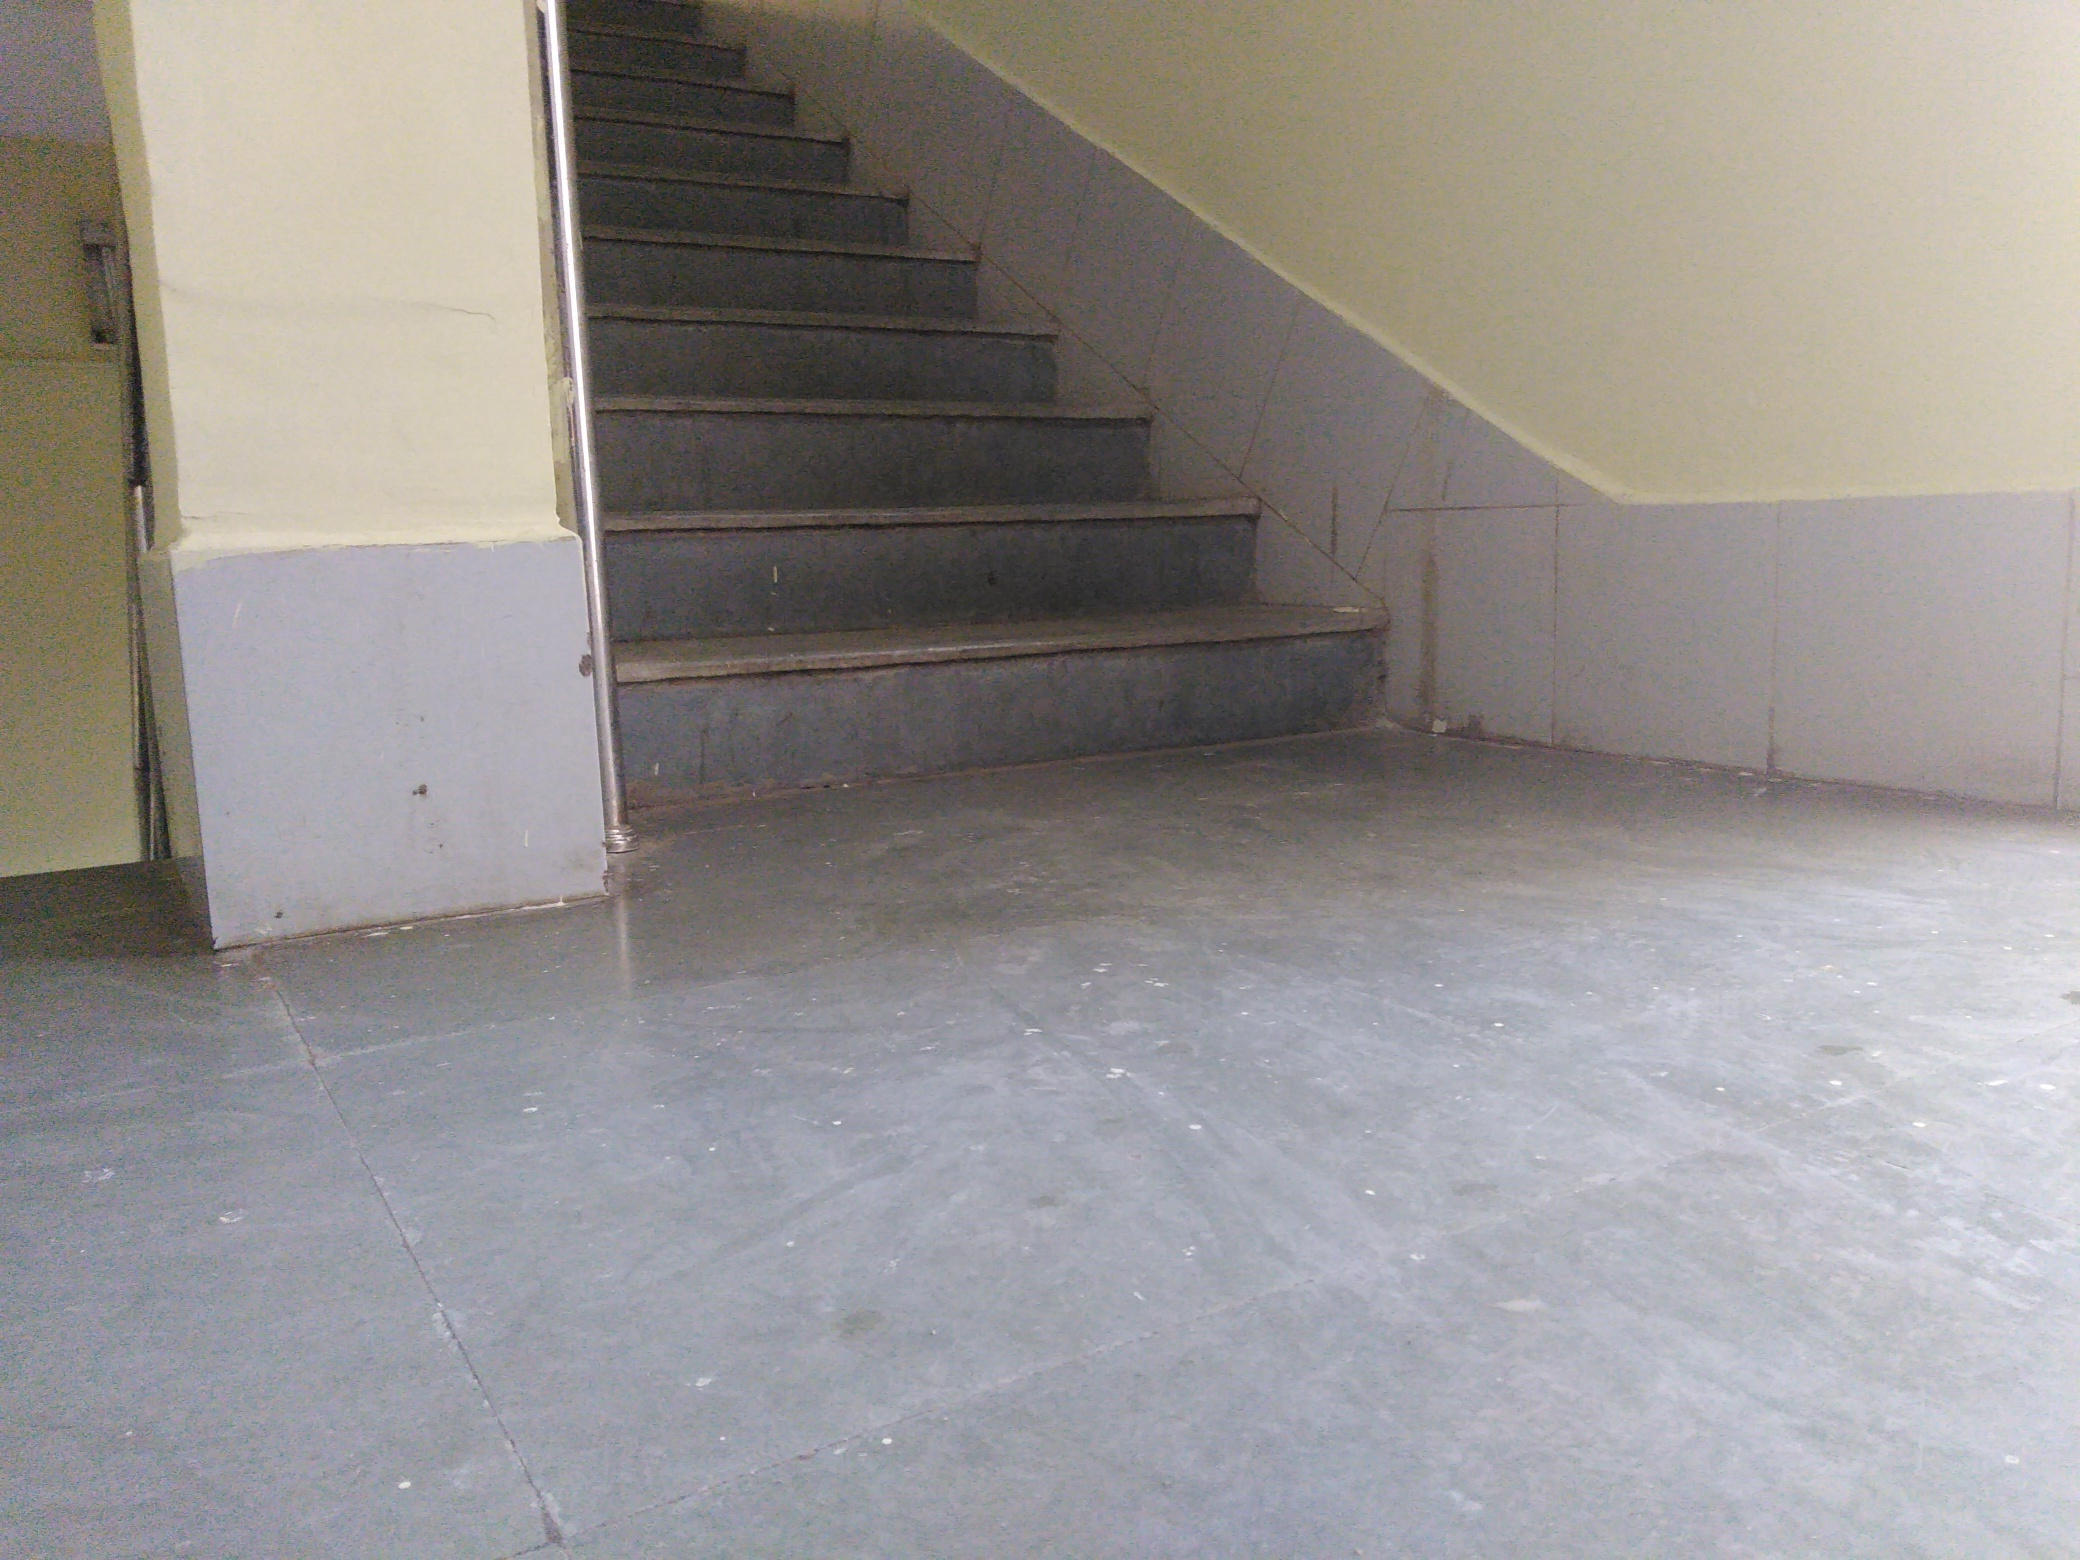stairs_up: (583, 20, 1346, 785)
